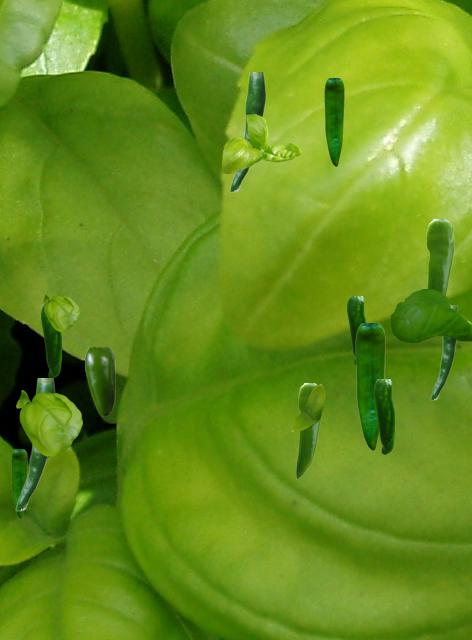green_chili: (15, 378, 54, 510), (229, 72, 264, 191), (355, 323, 384, 449), (430, 305, 457, 399), (296, 383, 321, 477), (426, 219, 453, 295), (85, 347, 114, 415), (324, 78, 343, 165), (374, 379, 393, 453), (41, 305, 60, 377), (347, 296, 365, 364), (11, 449, 26, 517)
